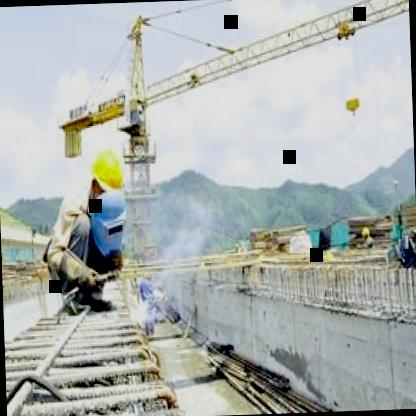helmet: (86, 144, 127, 202)
